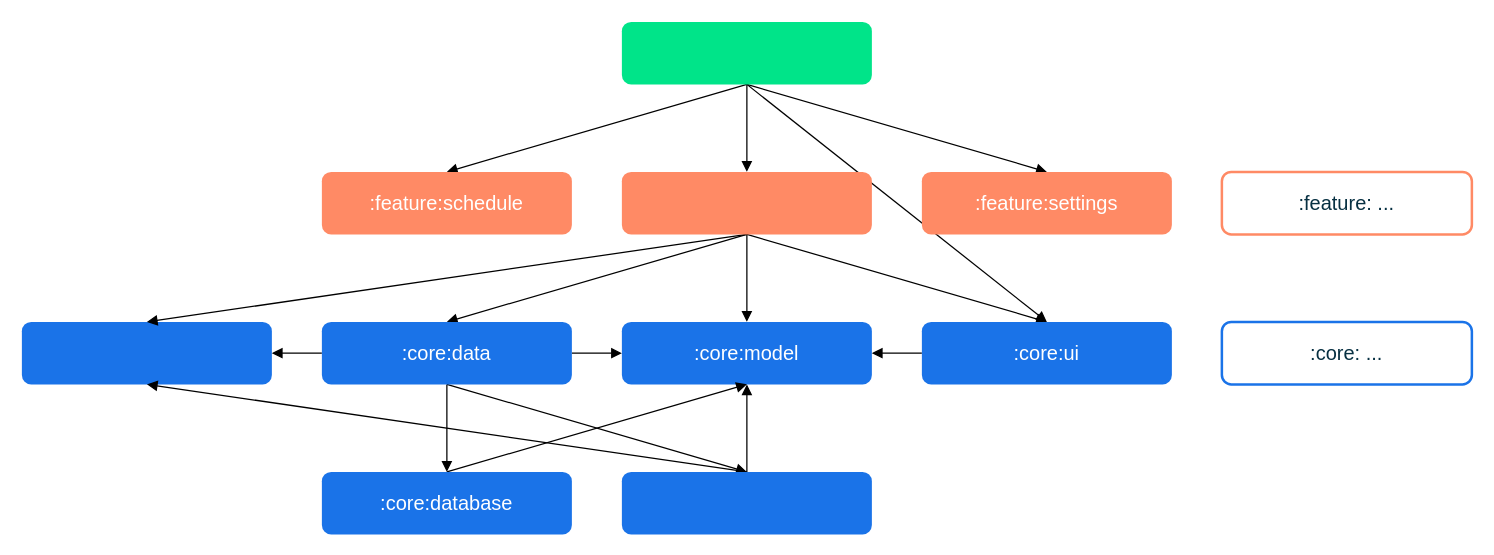
The diagram is 1494 pixels wide and 555 high, and some of its shapes have lost their labels. Here are the shapes that lost their labels. From the top down, the box of each, then its label:
(621, 21, 871, 84): app
(621, 171, 871, 234): :feature:attendance
(21, 321, 271, 384): :core:common
(621, 471, 871, 534): :core:network
